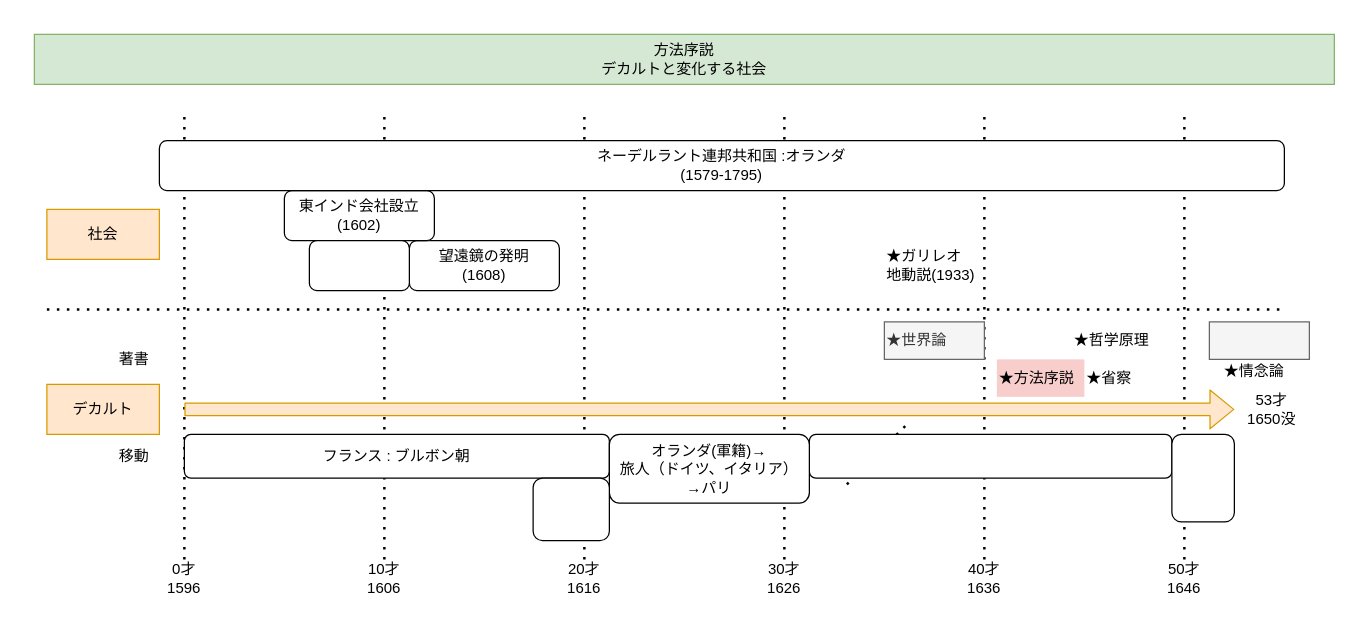
This 1356x630 diagram has some shape labels left out. The shapes that lost their labels are listed below. From the top down, each one's box as (x1, y1, x2, y2) in pixels, then its label:
(308, 239, 409, 291): 朱印船貿易 (1604-)
(1208, 321, 1309, 359): ★人間論
(808, 433, 1172, 478): オランダ
(1171, 433, 1234, 522): スウェーデン
(532, 477, 609, 541): 法学 医学
